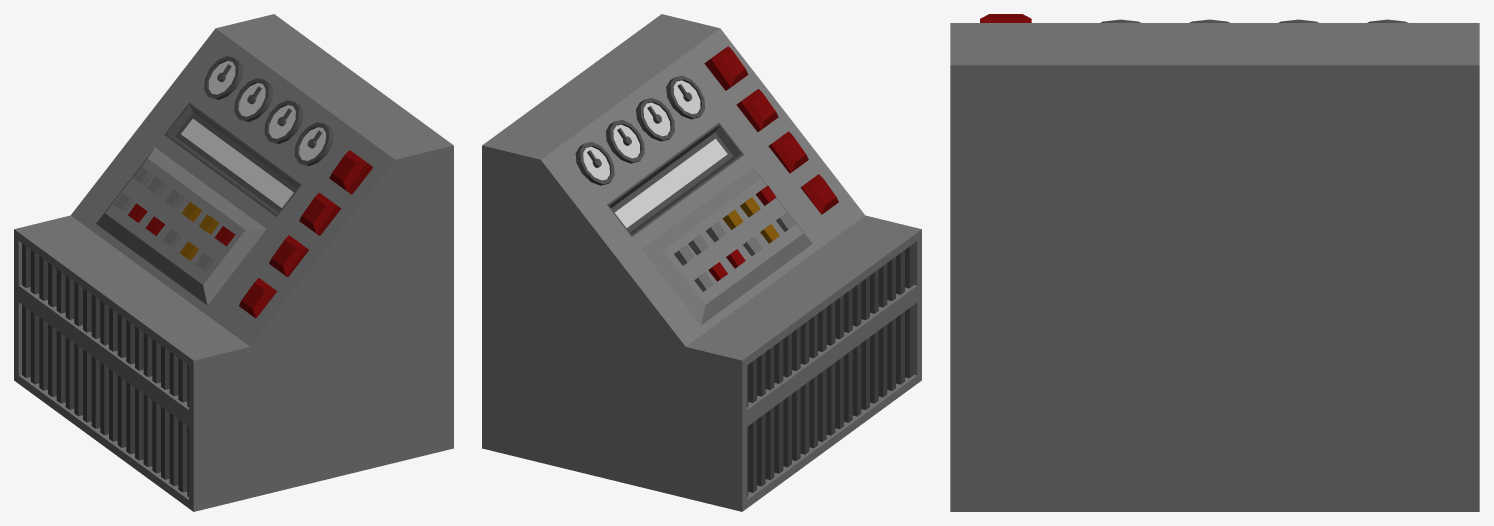
Rendered from SM_PC_Deco_01.fbx.
3 views of the same model, side by side, from view 1: azimuth 30°, elevation 25°; view 2: azimuth 150°, elevation 25°; view 3: azimuth 270°, elevation 25° (orthographic). The views are drawn at different scales.
Visible parts, largest first — view 1: SM_PC_Deco_01; view 2: SM_PC_Deco_01; view 3: SM_PC_Deco_01.
Boxes of the visible parts, x1,y1,x2,y2 form: SM_PC_Deco_01: (14,14,453,511); SM_PC_Deco_01: (482,14,921,511); SM_PC_Deco_01: (950,14,1479,511).
Size of the model in its own units: 144 by 160 by 172.
